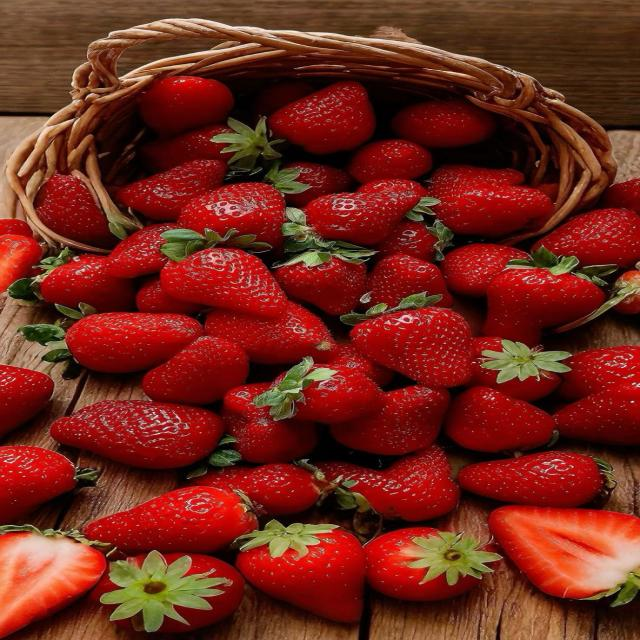strawberry: (489, 506, 639, 605), (483, 248, 615, 346), (237, 521, 365, 622), (90, 551, 244, 633), (342, 294, 471, 387), (0, 526, 106, 637), (50, 401, 223, 468), (85, 487, 257, 553), (160, 229, 288, 317), (20, 313, 203, 372), (318, 445, 459, 521), (274, 209, 374, 315), (364, 527, 500, 601), (427, 165, 553, 238), (254, 357, 383, 424), (458, 452, 615, 507), (331, 386, 449, 455), (66, 313, 202, 372), (206, 303, 335, 364), (268, 81, 375, 154), (305, 180, 424, 245), (222, 383, 318, 463), (0, 446, 97, 523), (445, 387, 556, 452), (142, 337, 248, 405), (178, 183, 285, 249), (190, 463, 319, 516), (467, 337, 570, 401), (117, 160, 226, 220), (534, 209, 639, 268), (35, 174, 117, 248), (274, 252, 366, 315), (36, 255, 135, 313), (140, 76, 233, 134), (392, 97, 495, 147), (554, 386, 639, 445), (440, 244, 528, 297), (139, 125, 233, 173), (367, 254, 452, 307), (559, 345, 639, 400), (213, 117, 284, 176), (107, 223, 177, 277), (0, 365, 53, 435), (348, 139, 432, 183), (374, 220, 453, 262), (281, 162, 352, 206), (327, 343, 393, 387), (136, 276, 206, 315), (0, 235, 42, 293), (254, 81, 313, 117), (600, 178, 639, 213), (358, 179, 426, 198), (614, 263, 639, 314), (0, 219, 33, 237)
